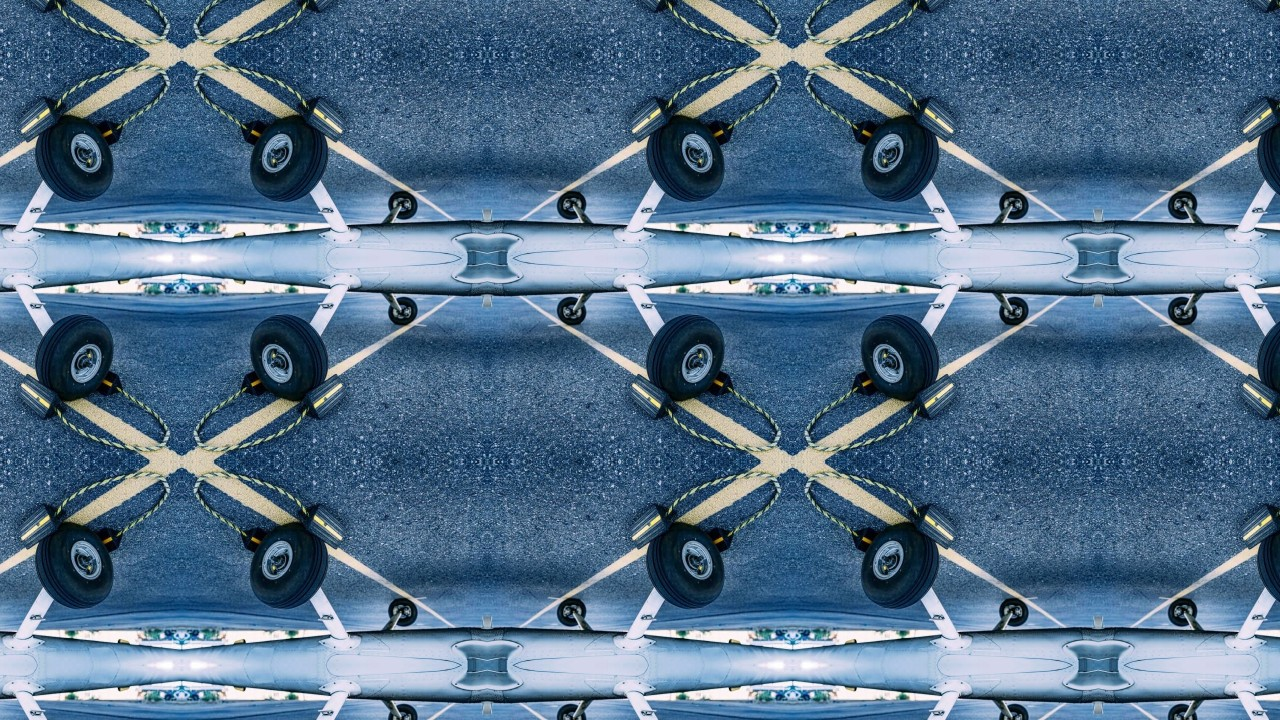chock: (14, 96, 66, 143), (296, 96, 348, 143), (626, 96, 678, 143), (908, 96, 960, 143), (14, 373, 66, 420), (296, 373, 348, 420), (626, 373, 678, 420), (908, 373, 960, 420), (14, 504, 66, 551), (296, 504, 348, 551), (626, 504, 678, 551), (908, 504, 960, 551), (1238, 96, 1280, 143), (1238, 373, 1280, 420), (1238, 504, 1280, 551), (88, 120, 123, 147), (239, 120, 274, 147), (700, 120, 735, 147), (851, 120, 886, 147), (88, 369, 123, 396), (239, 369, 274, 396), (700, 369, 735, 396), (851, 369, 886, 396), (88, 528, 123, 555), (239, 528, 274, 555), (700, 528, 735, 555), (851, 528, 886, 555), (14, 0, 66, 12), (296, 0, 348, 12), (626, 0, 678, 12), (908, 0, 960, 12), (1238, 0, 1280, 12)
wheel: (34, 115, 114, 202), (249, 115, 329, 202), (646, 115, 726, 202), (861, 115, 941, 202), (34, 314, 114, 401), (249, 314, 329, 401), (646, 314, 726, 401), (861, 314, 941, 401), (34, 523, 114, 610), (249, 523, 329, 610), (646, 523, 726, 610), (861, 523, 941, 610), (1258, 115, 1280, 202), (1258, 314, 1280, 401), (1258, 523, 1280, 610), (555, 295, 586, 326), (1167, 295, 1198, 326), (555, 191, 586, 221), (1167, 191, 1198, 221), (388, 295, 418, 326), (1000, 295, 1030, 326), (555, 598, 586, 628), (1167, 598, 1198, 628), (388, 191, 418, 221), (1000, 191, 1030, 221), (388, 598, 418, 628), (1000, 598, 1030, 628), (555, 704, 586, 720), (1167, 704, 1198, 720), (388, 704, 418, 720), (1000, 704, 1030, 720)
